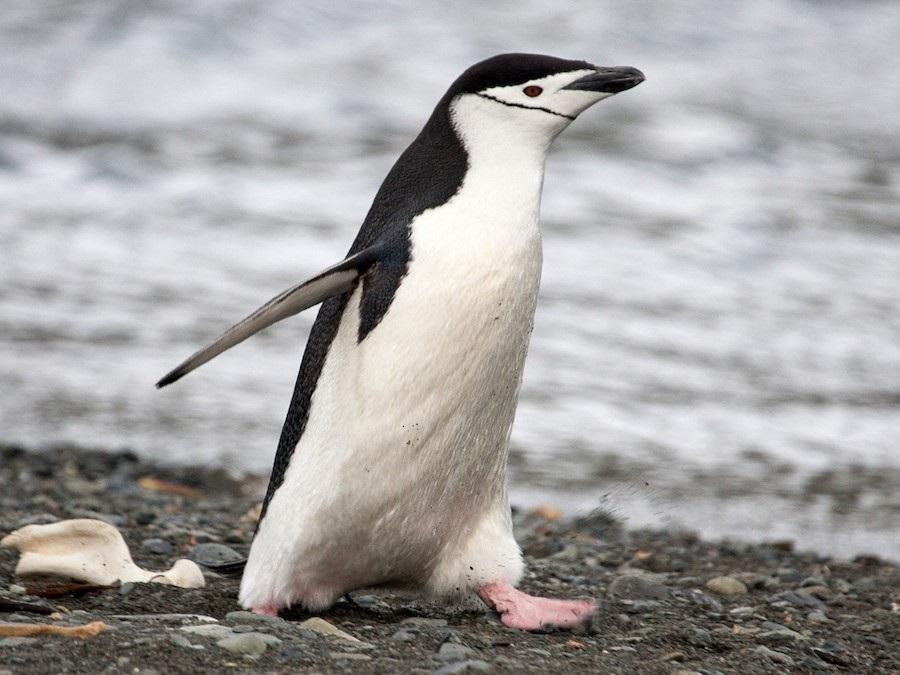chinstrap: (168, 16, 652, 638)
